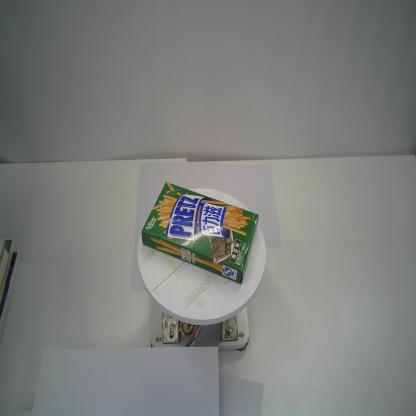Dessert: (141, 182, 260, 285)
